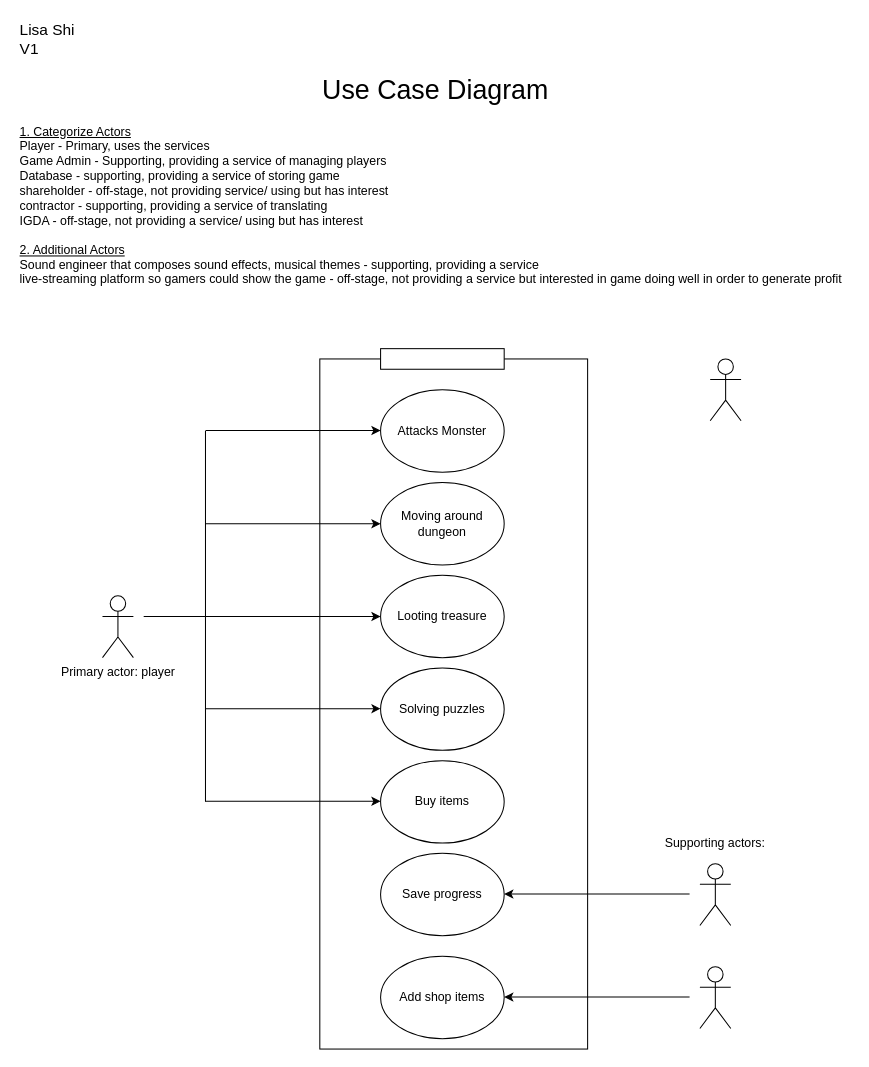
Some shapes in this 869 by 1067 pixel diagram are drawn without their labels. The centre of each missing label's shape, as x and y in pixels:
"Database" goes at [715,894].
"Dungeon Crawler" goes at [442,358].
"Game Admin" goes at [715,997].
"Off-stage actor: Shareholder" goes at [725,389].
